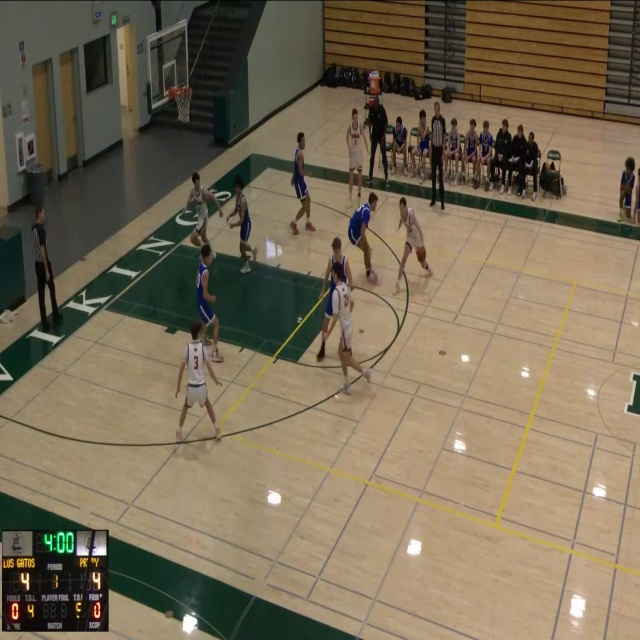Basketball: (416, 246, 426, 261)
